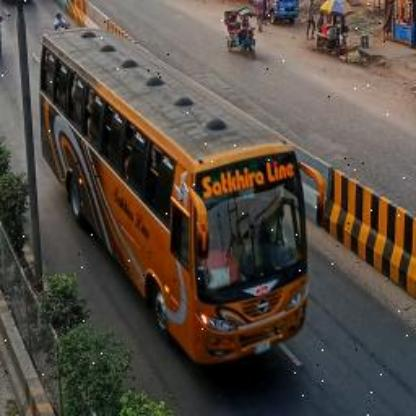bus: (34, 30, 334, 378)
